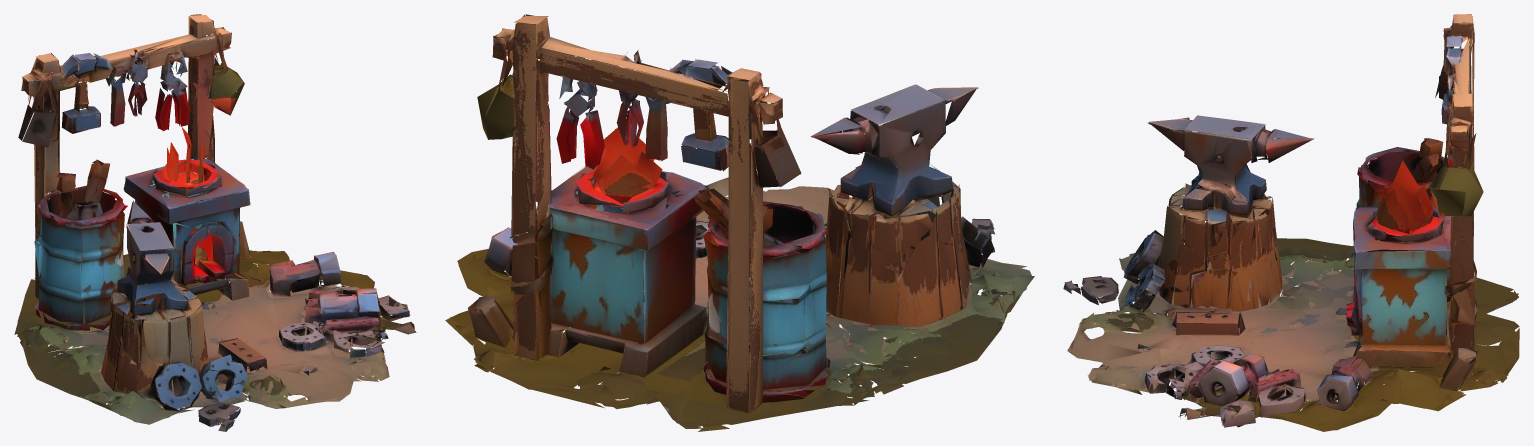
Rendered from smith_stall.glb.
3 views of the same model, side by side, from view 1: azimuth 30°, elevation 25°; view 2: azimuth 150°, elevation 25°; view 3: azimuth 270°, elevation 25° (orthographic). The views are drawn at different scales.
Visible parts, largest first — view 1: SmithStall; view 2: SmithStall; view 3: SmithStall.
Boxes of the visible parts, x1,y1,x2,y2 form: SmithStall: [14, 14, 416, 431]; SmithStall: [445, 14, 1034, 431]; SmithStall: [1063, 14, 1519, 431].
Size of the model in its own units: 0.9229 by 0.6244 by 0.9259.
1 material, 1 textured.
